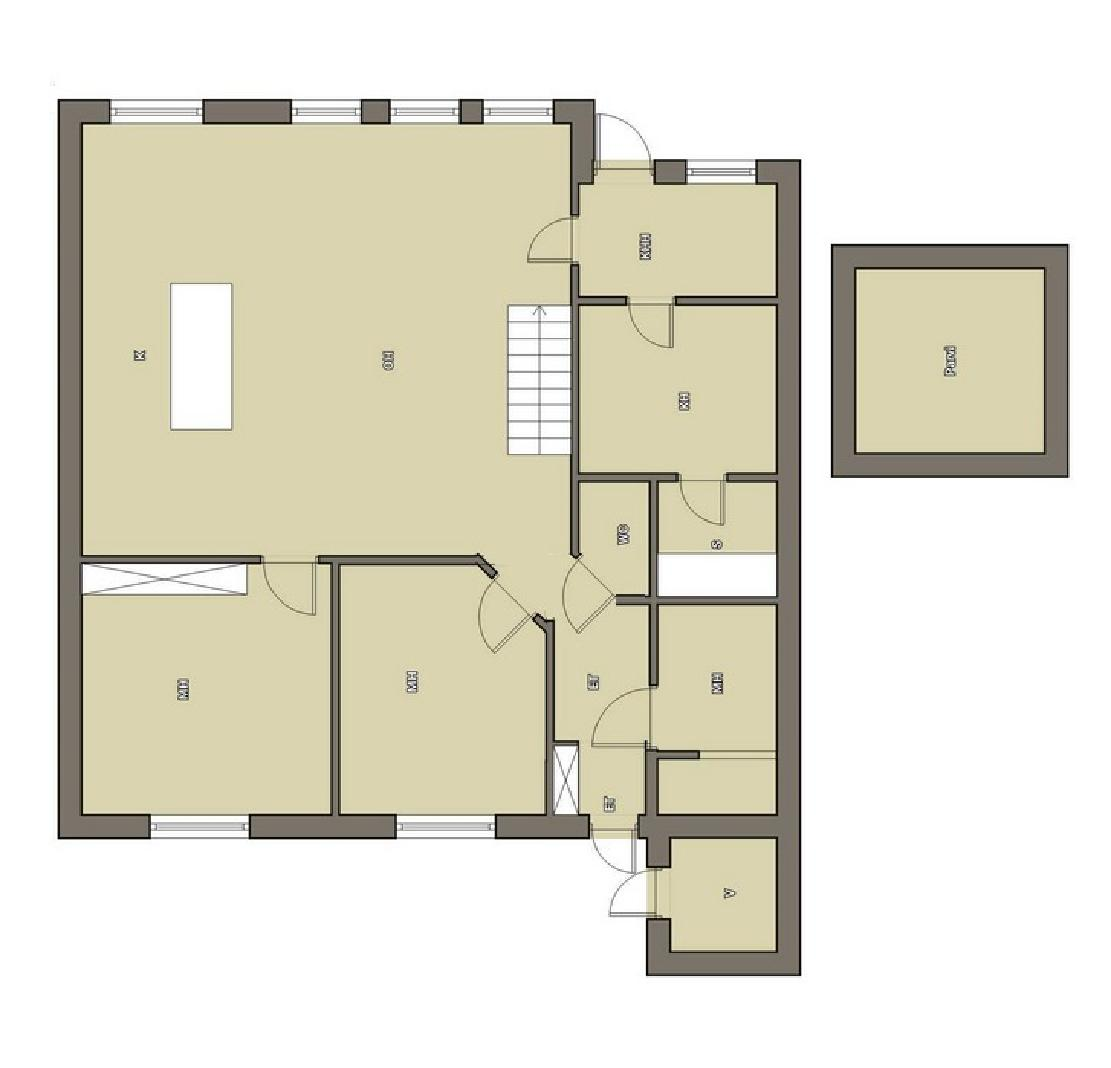door: (556, 556, 619, 635), (474, 571, 531, 658), (591, 692, 661, 755), (264, 554, 319, 627), (591, 109, 652, 168), (679, 472, 734, 534), (622, 295, 679, 353), (522, 213, 579, 268), (589, 819, 641, 875), (609, 865, 655, 925)
window: (106, 97, 209, 128), (150, 813, 248, 839), (398, 813, 494, 839), (391, 93, 457, 127), (483, 98, 553, 123), (289, 98, 357, 123), (691, 161, 753, 185)
zone: (80, 112, 648, 820), (80, 559, 329, 814), (340, 564, 548, 815), (852, 267, 1046, 451), (579, 302, 779, 471), (650, 606, 778, 820), (577, 171, 778, 300), (655, 475, 780, 603), (656, 838, 780, 947)
